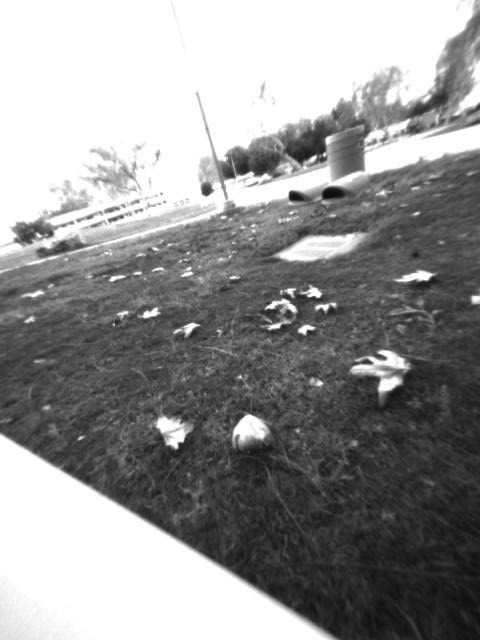trashcan: (320, 119, 366, 183)
